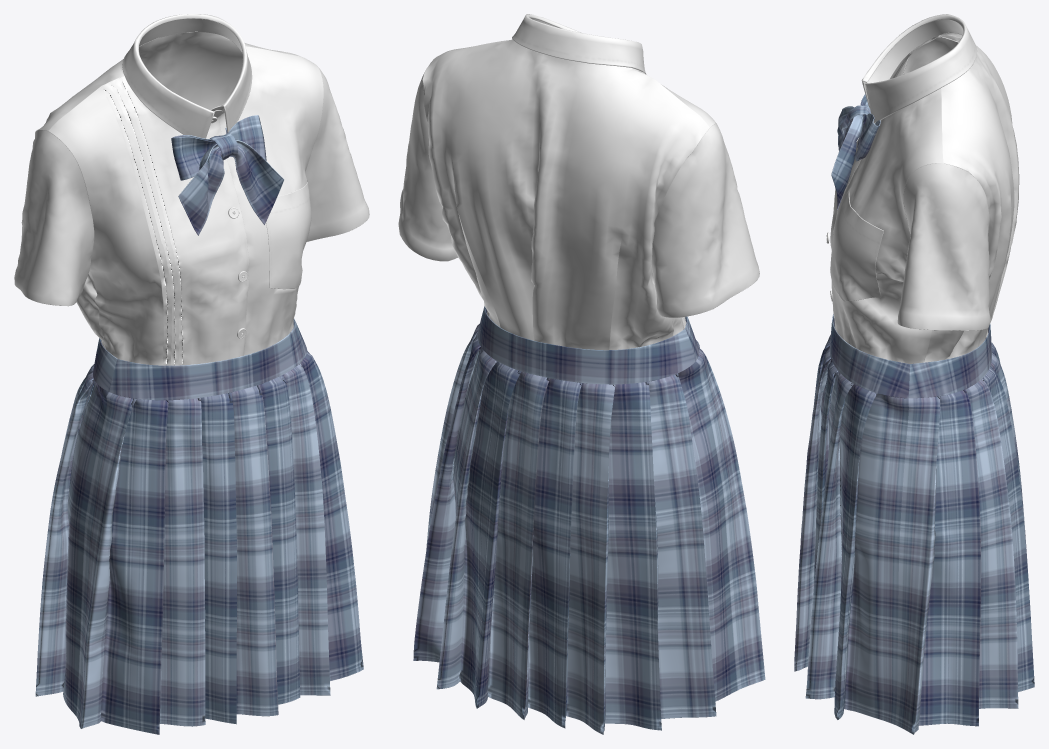
Rendered from jk_school_uniform.glb.
3 renders of one model, left to right at view 1: azimuth 30°, elevation 25°; view 2: azimuth 150°, elevation 25°; view 3: azimuth 270°, elevation 25°, orthographic. The views are drawn at different scales.
Parts seen in each view (by area): view 1: Object_4, Object_2, Object_3, Object_5, Object_8, Object_9, Object_6, Object_7; view 2: Object_8, Object_6, Object_9, Object_5, Object_4, Object_2; view 3: Object_8, Object_4, Object_5, Object_2, Object_6, Object_3, Object_9, Object_7.
Boxes of the visible parts, box(x1,y1,x2,y2) form: Object_4: box(76, 351, 363, 734); Object_2: box(48, 18, 323, 365); Object_3: box(102, 76, 311, 365); Object_5: box(122, 14, 369, 241); Object_8: box(35, 364, 109, 716); Object_9: box(14, 130, 117, 391); Object_6: box(35, 31, 300, 348); Object_7: box(109, 318, 307, 400); Object_8: box(413, 323, 737, 734); Object_6: box(422, 39, 709, 350); Object_9: box(477, 123, 759, 384); Object_5: box(398, 14, 700, 317); Object_4: box(696, 340, 765, 689); Object_2: box(434, 18, 716, 336); Object_8: box(895, 342, 1034, 734); Object_4: box(794, 334, 908, 724); Object_5: box(831, 14, 990, 330); Object_2: box(831, 19, 963, 363); Object_6: box(924, 32, 1019, 362); Object_3: box(830, 35, 939, 329); Object_9: box(903, 36, 991, 398); Object_7: box(829, 314, 909, 398).
Size of the model in its own units: 449 by 818 by 280.
2 materials, 1 textured.
